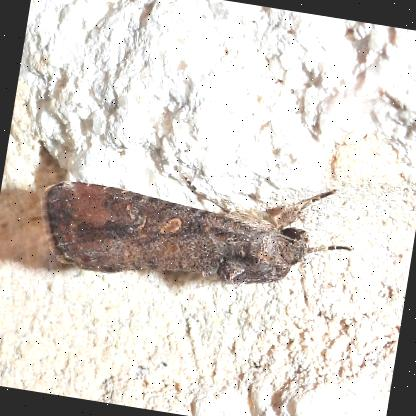Fall Armyworm Moth: (26, 140, 366, 316)
